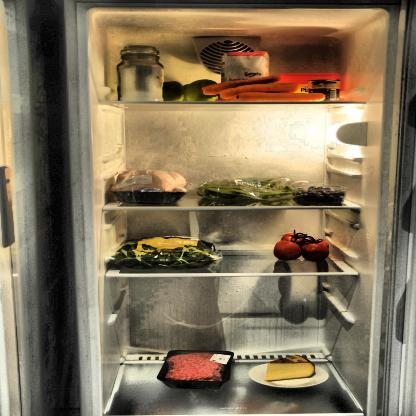apple: (163, 79, 223, 100)
blueberries: (300, 185, 350, 207)
carrot: (199, 74, 326, 104)
cheese: (260, 353, 318, 383)
chicken: (112, 168, 191, 204)
corn: (310, 78, 341, 101)
green_beans: (196, 177, 298, 203)
ground_beef: (161, 349, 231, 388)
spinach: (108, 236, 222, 269)
tomato: (271, 230, 330, 263)
